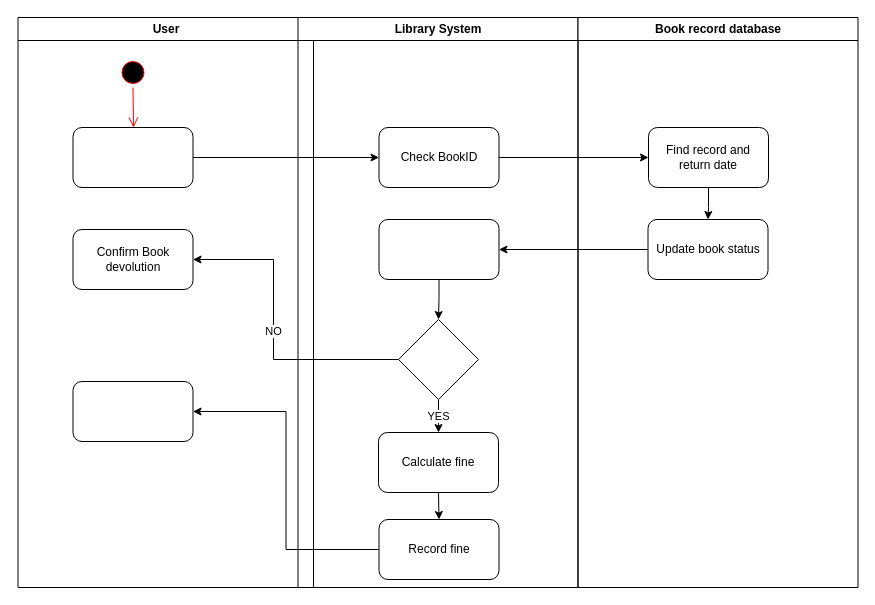
The diagram is 875 pixels wide and 605 high, and some of its shapes have lost their labels. The centre of each missing label's shape, as x and y in pixels:
"Check return date expiry" goes at point 438,249.
"Date overdue?" goes at point 438,359.
"Indicate pending fine" goes at point 132,411.
"Input bookID" goes at point 132,157.
